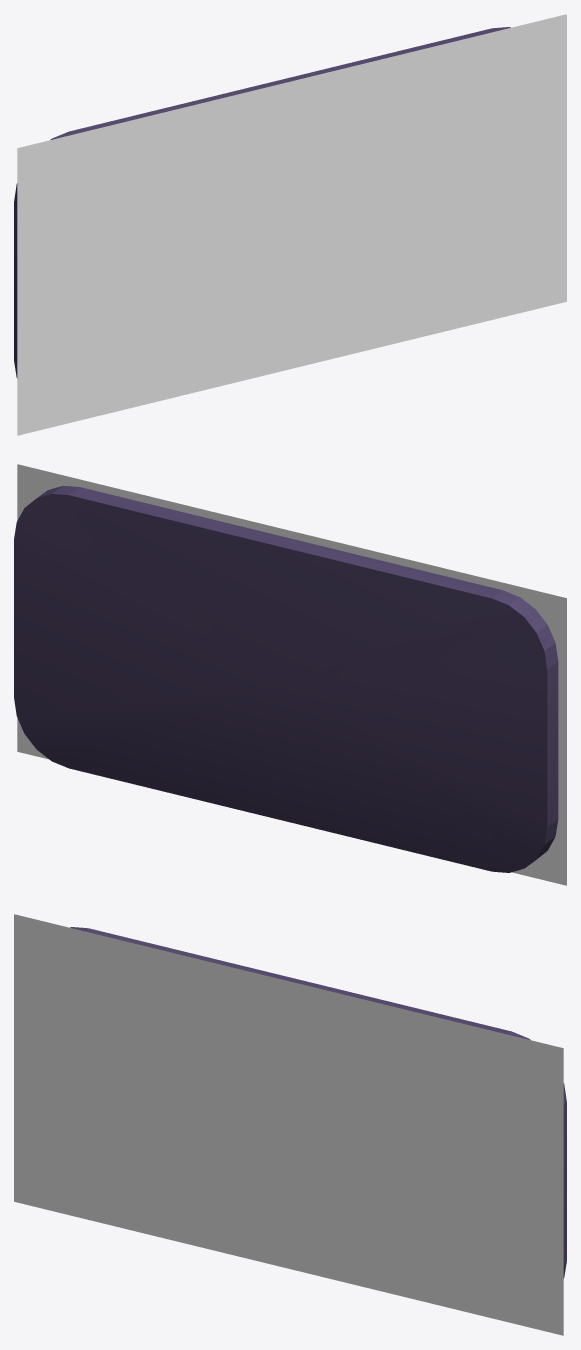
File: furn_sign_museum.glb
3 renders of one model, top to bottom at view 1: azimuth 30°, elevation 25°; view 2: azimuth 150°, elevation 25°; view 3: azimuth 330°, elevation 25°, orthographic.
Visible parts, largest first — view 1: furn_sign_museum_pic, furn_sign_museum_main; view 2: furn_sign_museum_main, furn_sign_museum_pic; view 3: furn_sign_museum_pic, furn_sign_museum_main.
Part boxes in pixels (<box>): furn_sign_museum_pic: <box>17,14,566,435</box>; furn_sign_museum_main: <box>14,27,510,378</box>; furn_sign_museum_main: <box>14,485,558,872</box>; furn_sign_museum_pic: <box>17,464,566,885</box>; furn_sign_museum_pic: <box>14,914,563,1335</box>; furn_sign_museum_main: <box>70,927,566,1278</box>.
Bounding box in the file's own units: 2 × 1 × 0.073.
